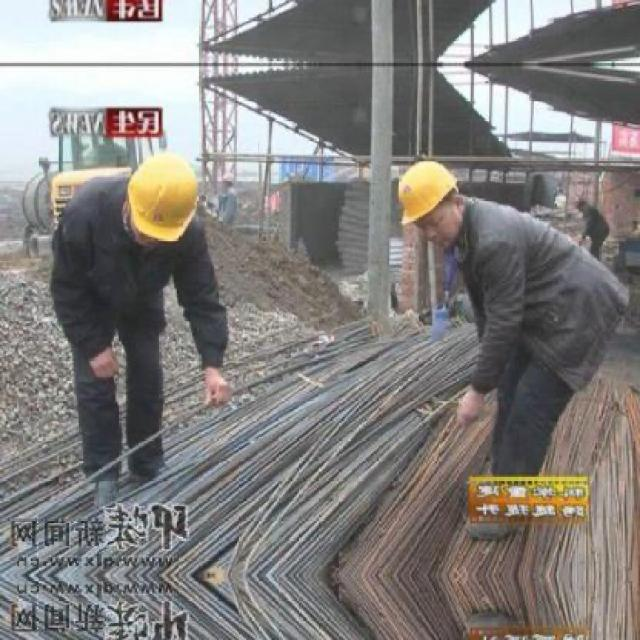helmet: (121, 143, 208, 251), (389, 149, 469, 248)
